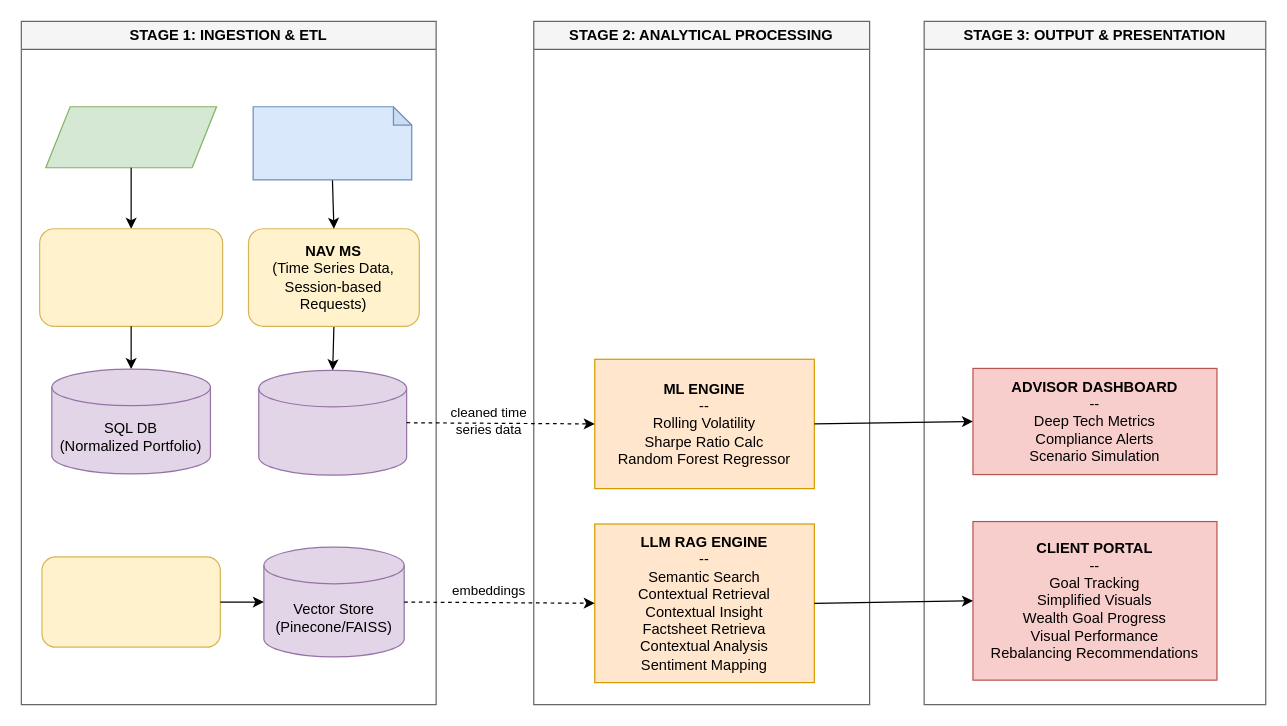
The diagram is 1287 pixels wide and 726 high, and some of its shapes have lost their labels. Here are the shapes that lost their labels. From the top down, the centre of each, then its label:
[131,137]: MFCentral API (JWT / OTP Auth)
[332,143]: AMFI Web Portal (Daily NAV Scraping)
[130,277]: MF Central Sync MS (Portfolio, PAN Sync / CAS Fetch)
[332,422]: MongoDB (Time-Series NAV)
[130,601]: AMC Scheme MS (OCR & FinGPT Embedding, Factsheet, LLM PDF Extraction )
